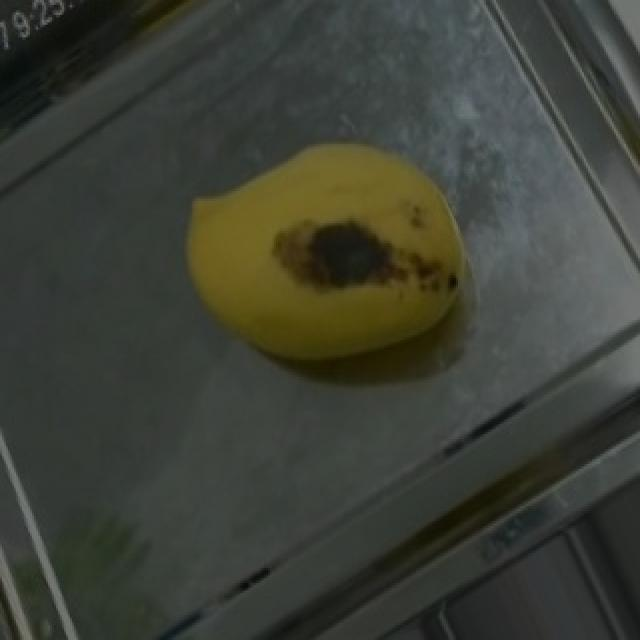fruit: (142, 80, 516, 437)
